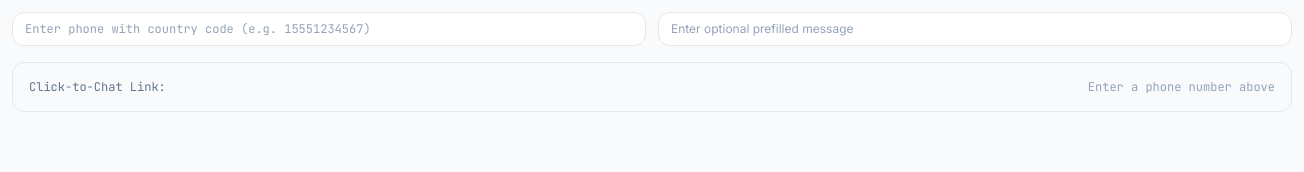
Web & Internet Utilities Suite (65 Tools) › 6. Internet Content Utilities › generates valid WhatsApp click-to-chat links with country codes
Type "919876543210" into the field with placeholder "Enter phone with country code (e.g. 15551234567)" at (329, 29), box [12,12,646,46]
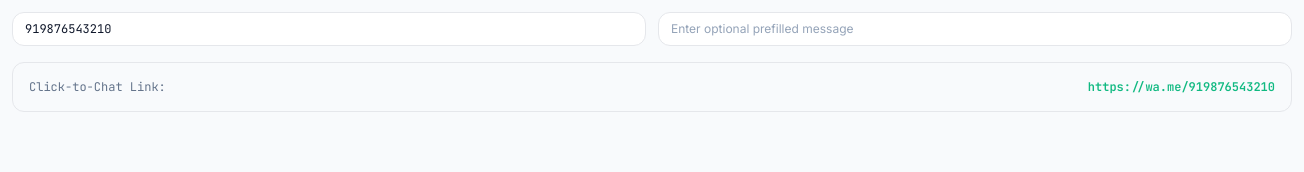
Expected: the link "https://wa.me/919876543210" is shown, [1088,79,1275,95]
